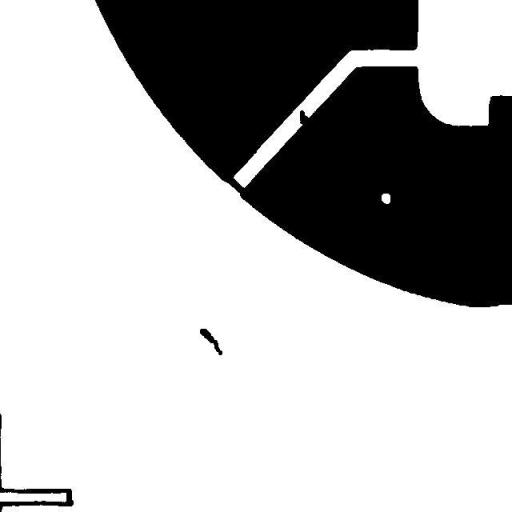copper: (192, 321, 230, 362)
pin-hole: (374, 186, 398, 211)
short: (212, 166, 254, 202), (58, 481, 81, 511)
spur: (292, 102, 317, 134)
